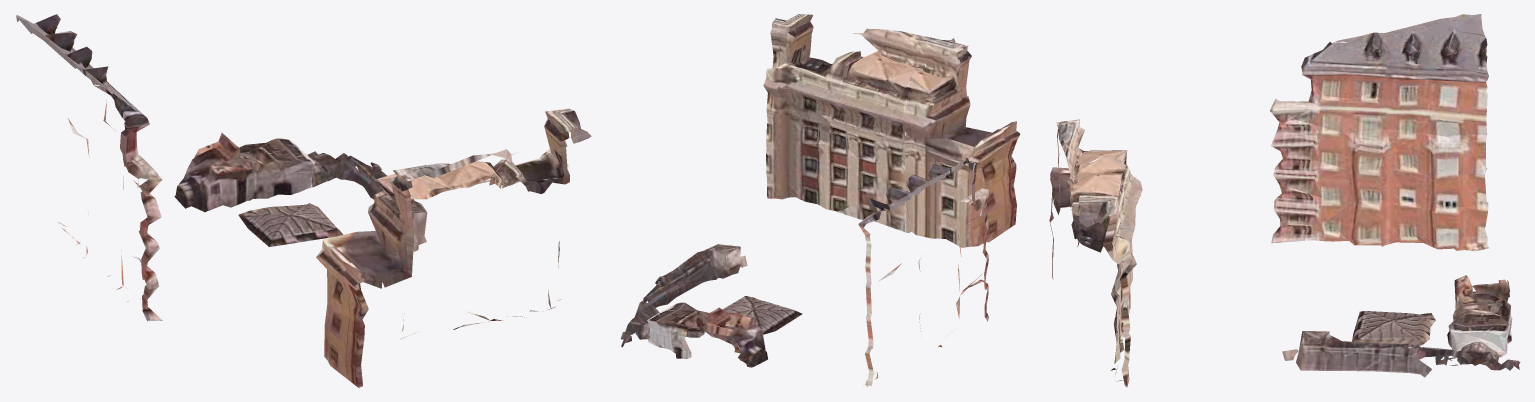
3 views of the same model, side by side, from view 1: azimuth 30°, elevation 25°; view 2: azimuth 150°, elevation 25°; view 3: azimuth 270°, elevation 25° (orthographic). The views are drawn at different scales.
Parts seen in each view (by area): view 1: Mesh_0; view 2: Mesh_0; view 3: Mesh_0.
Boxes of the visible parts, <box> form: Mesh_0: <box>16,14,591,387</box>; Mesh_0: <box>620,14,1020,387</box>; Mesh_0: <box>1049,14,1520,387</box>.
Bounding box in the file's own units: 33.34 × 21 × 40.79.
Materials: 1 (1 with a texture image).
